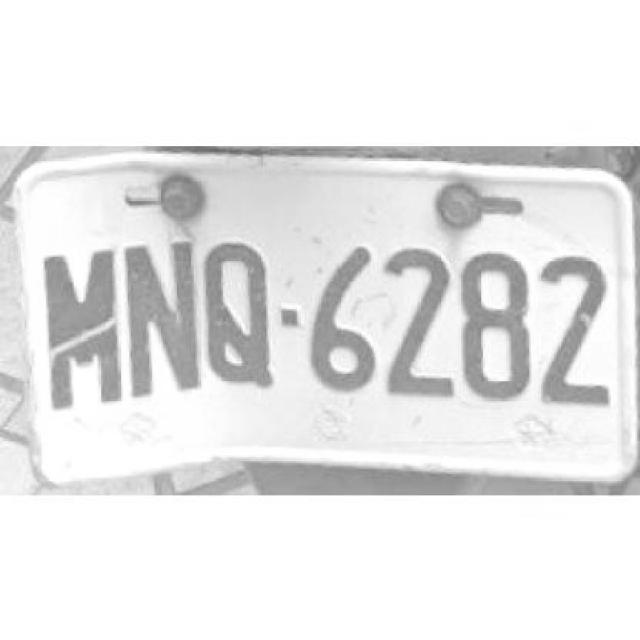-: (282, 305, 302, 326)
2: (538, 254, 614, 408), (383, 243, 455, 397)
6: (308, 244, 375, 394)
8: (460, 251, 531, 403)
M: (39, 243, 120, 409)
N: (119, 236, 199, 395)
Q: (202, 236, 273, 385)
